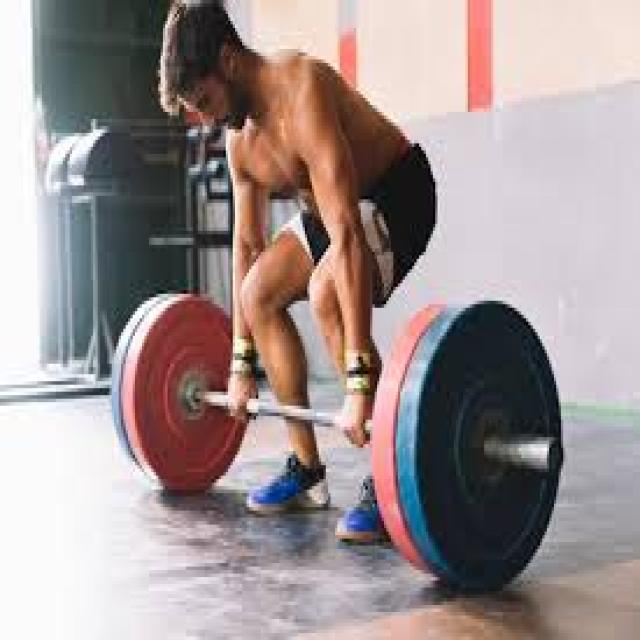barbell_plate_side: (450, 287, 564, 591), (110, 287, 223, 591)
